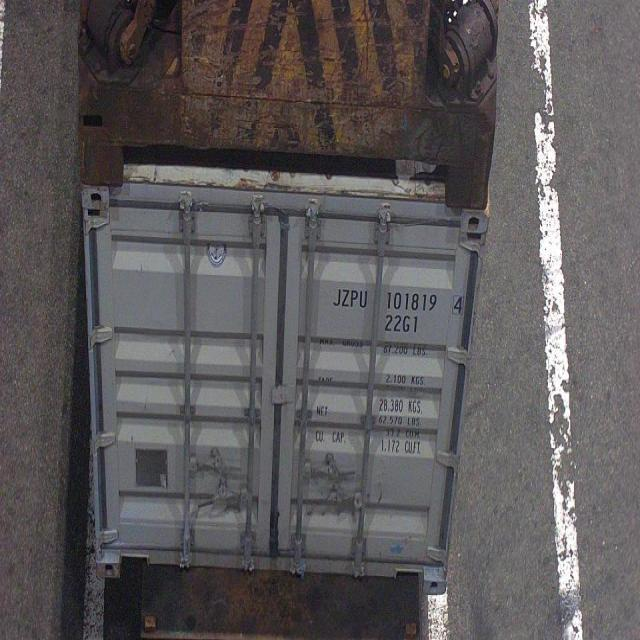ISO: (384, 314, 420, 334)
container_number: (334, 290, 466, 312)
